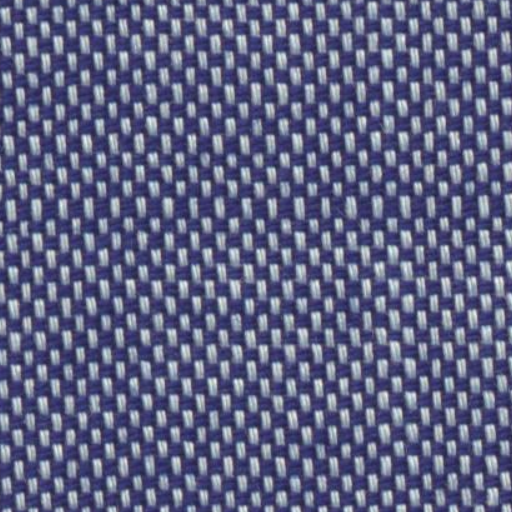TuoSha: (9, 111, 496, 186)
